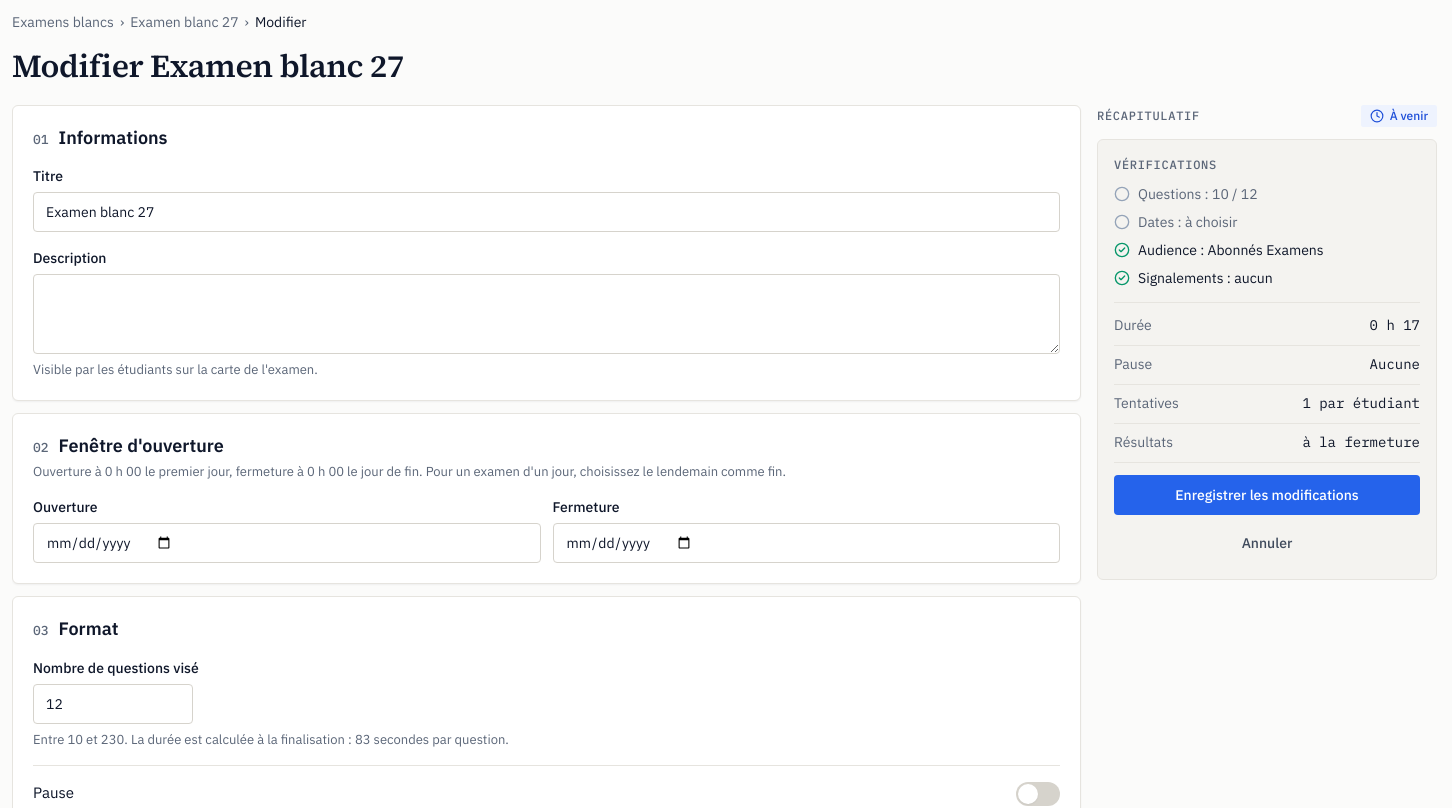
ExamForm — examen finalisé › prévient qu'un nouveau visé remet l'examen en préparation, sauf ramené au jeu
Replace the text in the field with test id "exam-target-input" with "10". click: (113, 704)
box: x1=33 y1=684 x2=193 y2=724
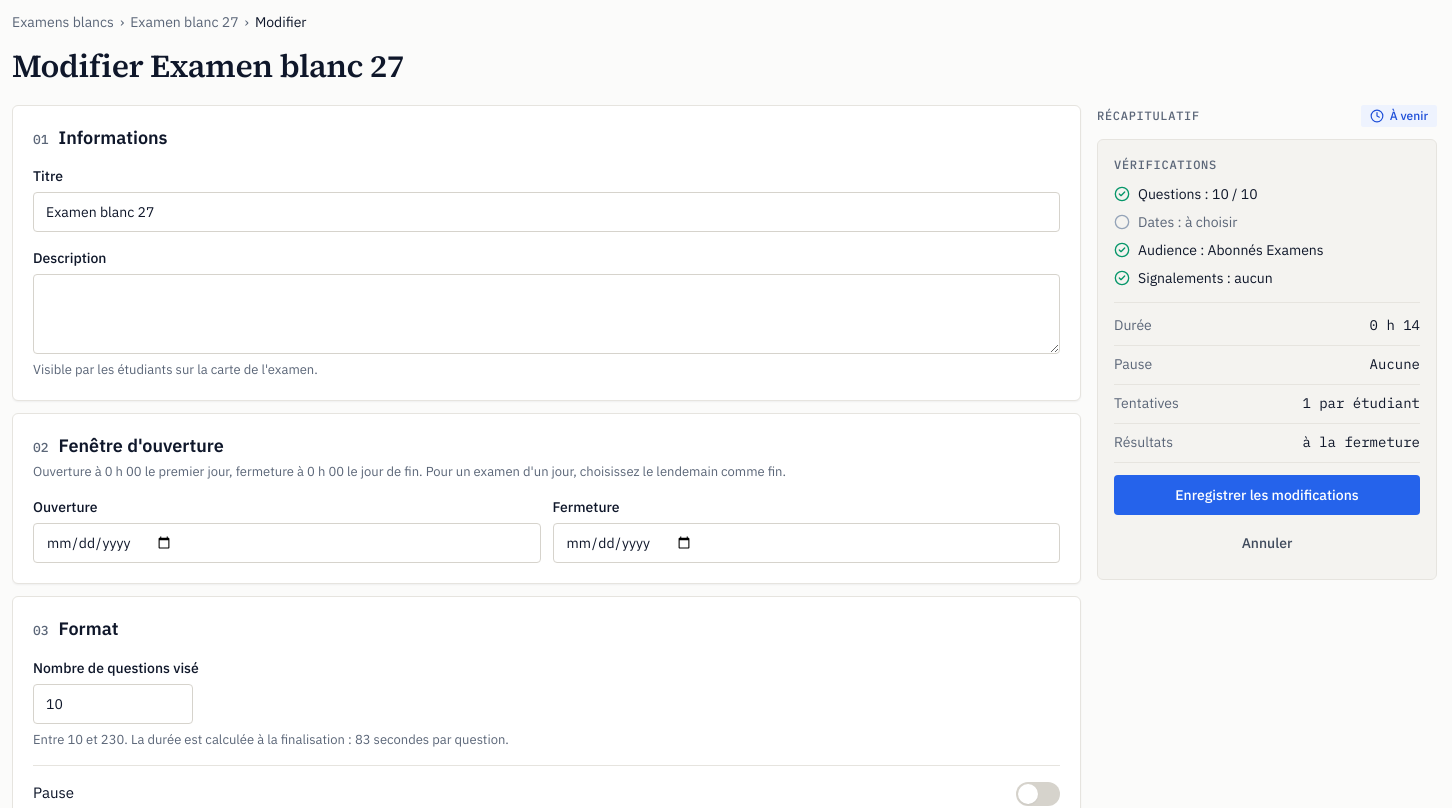
Replace the text in the field with test id "exam-target-input" with "20". click: (113, 704)
box: x1=33 y1=684 x2=193 y2=724
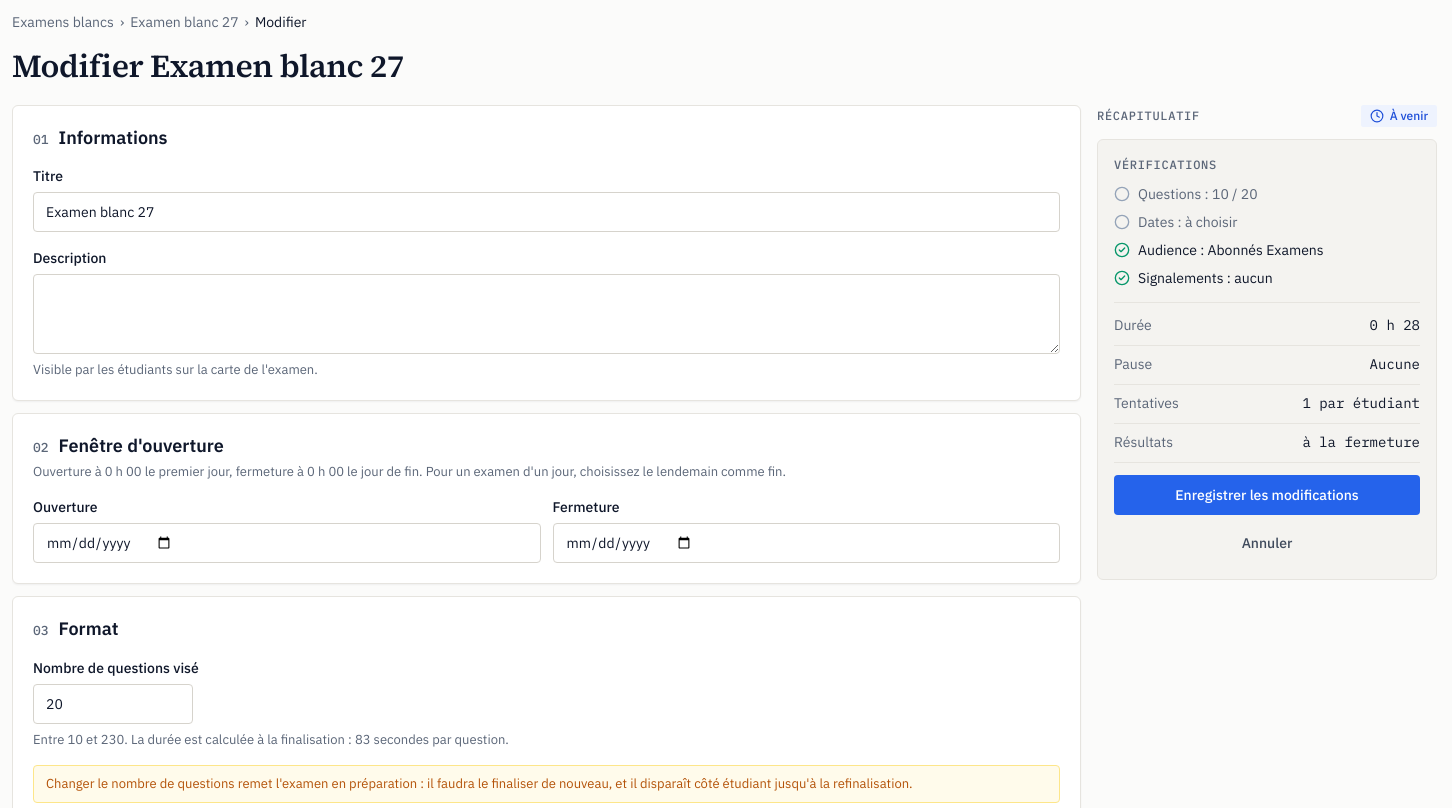
Expected: the text with test id "exam-target-reset-warning" shows "il disparaît côté étudiant jusqu'à la refinalisation", x1=46 y1=775 x2=913 y2=792
